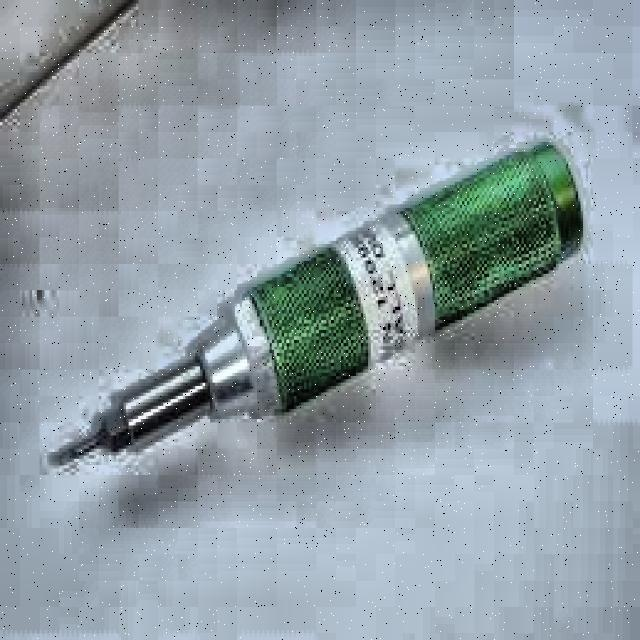screwdriver: (58, 144, 582, 466)
